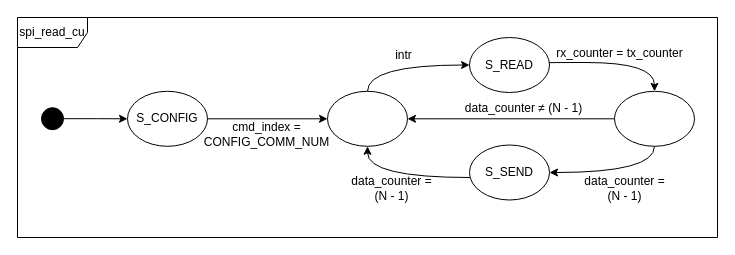
The diagram is 735 pixels wide and 255 high, and some of its shapes have lost their labels. Each missing label, with the centre of its shape:
S_IDLE: point (367, 118)
S_STORE: point (654, 118)
